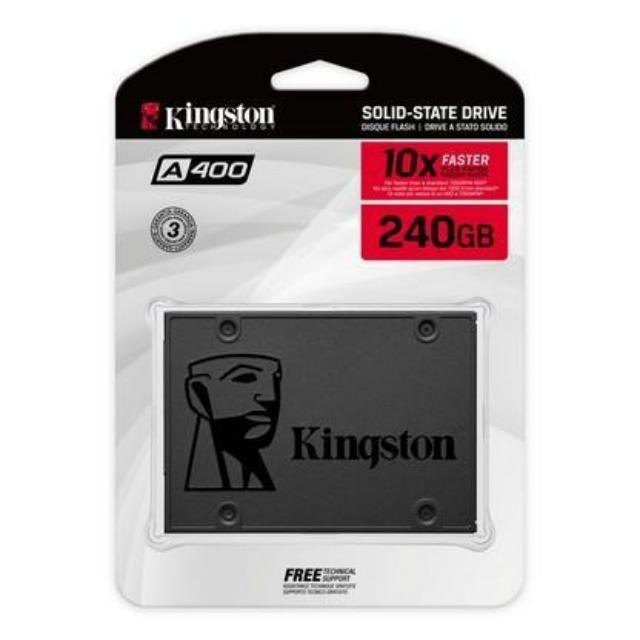DISK: (153, 302, 487, 542)
